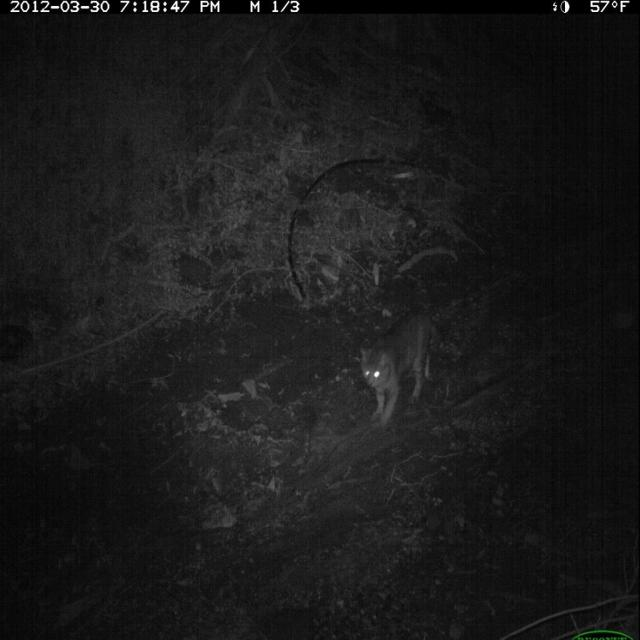cat: (358, 305, 455, 435)
